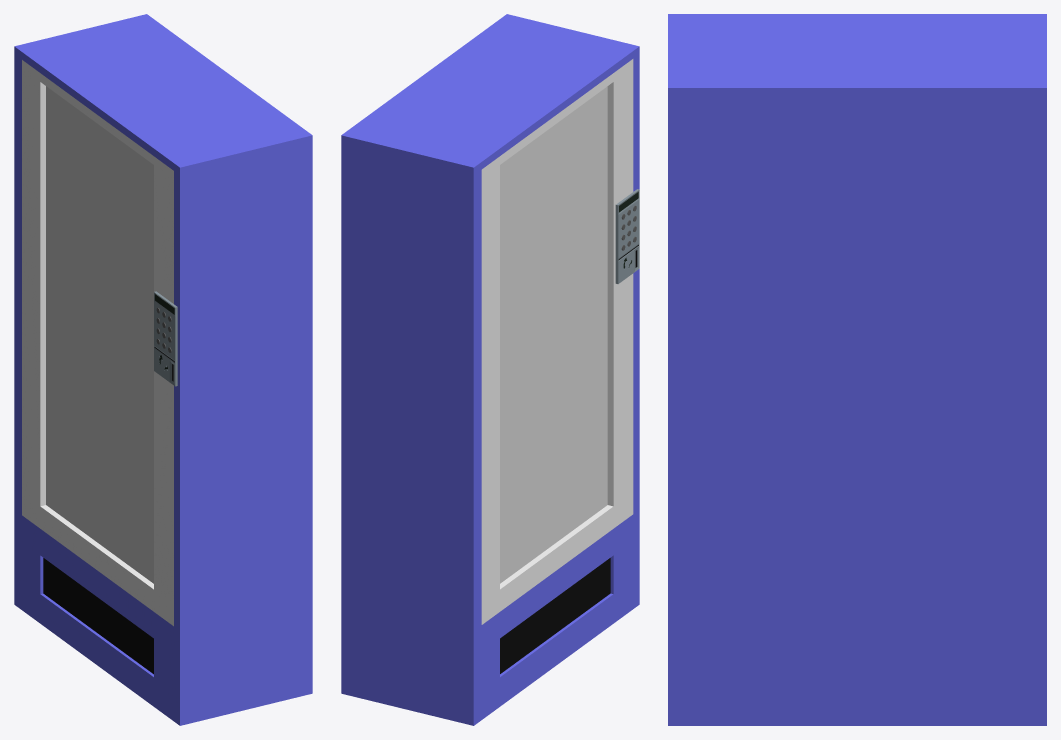
File: Distributeur avec vitre.fbx
3 renders of one model, left to right at view 1: azimuth 30°, elevation 25°; view 2: azimuth 150°, elevation 25°; view 3: azimuth 270°, elevation 25°, orthographic. The views are drawn at different scales.
Parts seen in each view (by area): view 1: MAchine, Vitre; view 2: MAchine, Vitre; view 3: MAchine.
Part boxes in pixels (left/top/right/bottom): MAchine: left=14, top=14, right=312, bottom=725; Vitre: left=46, top=86, right=153, bottom=583; MAchine: left=341, top=14, right=639, bottom=725; Vitre: left=500, top=86, right=607, bottom=583; MAchine: left=668, top=14, right=1046, bottom=725.
Bounding box in the file's own units: 760 × 2986 × 1607.
